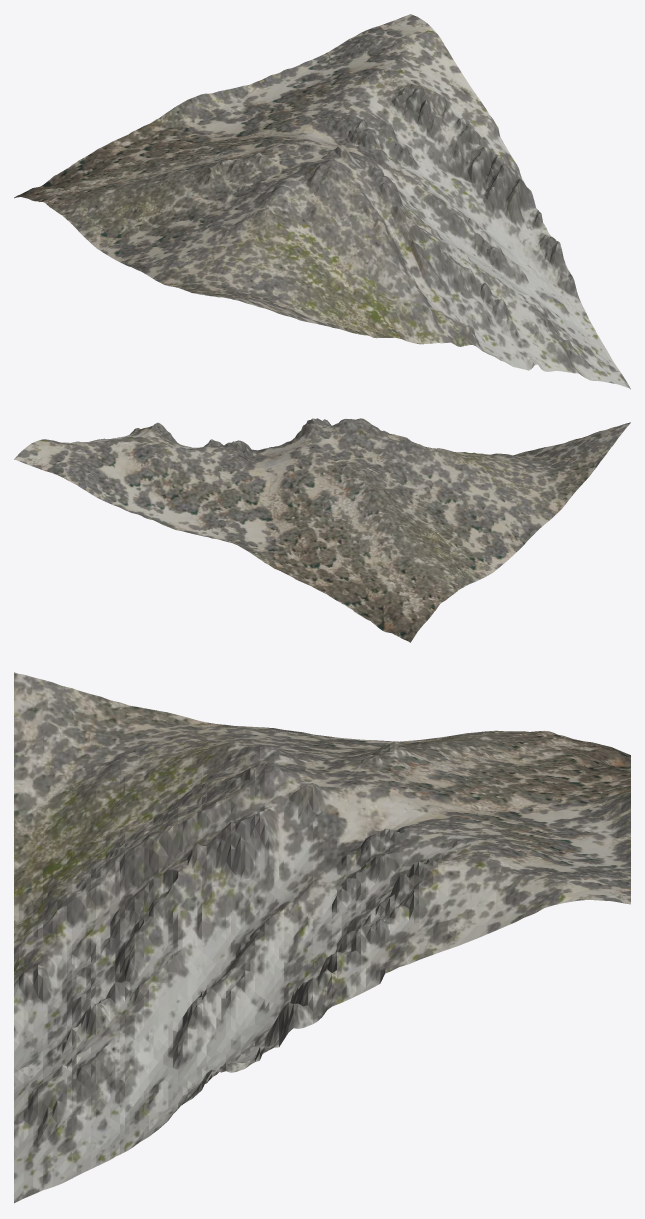
3 renders of one model, top to bottom at view 1: azimuth 30°, elevation 25°; view 2: azimuth 150°, elevation 25°; view 3: azimuth 270°, elevation 25°, orthographic. The views are drawn at different scales.
Size of the model in its own units: 500 by 262 by 481.
1 material, 1 textured.
